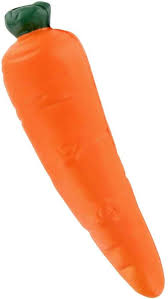carrot: (2, 28, 167, 295)
